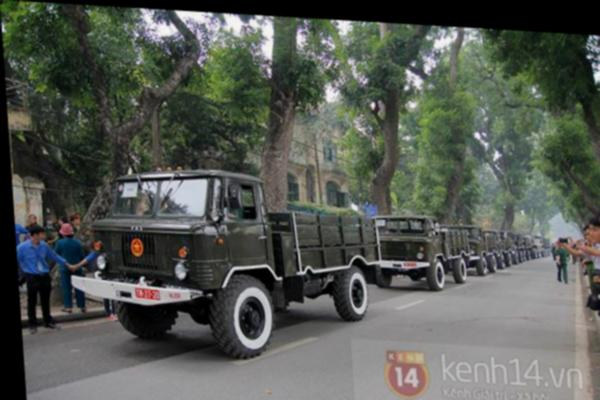License_Plate: (134, 286, 166, 302)
